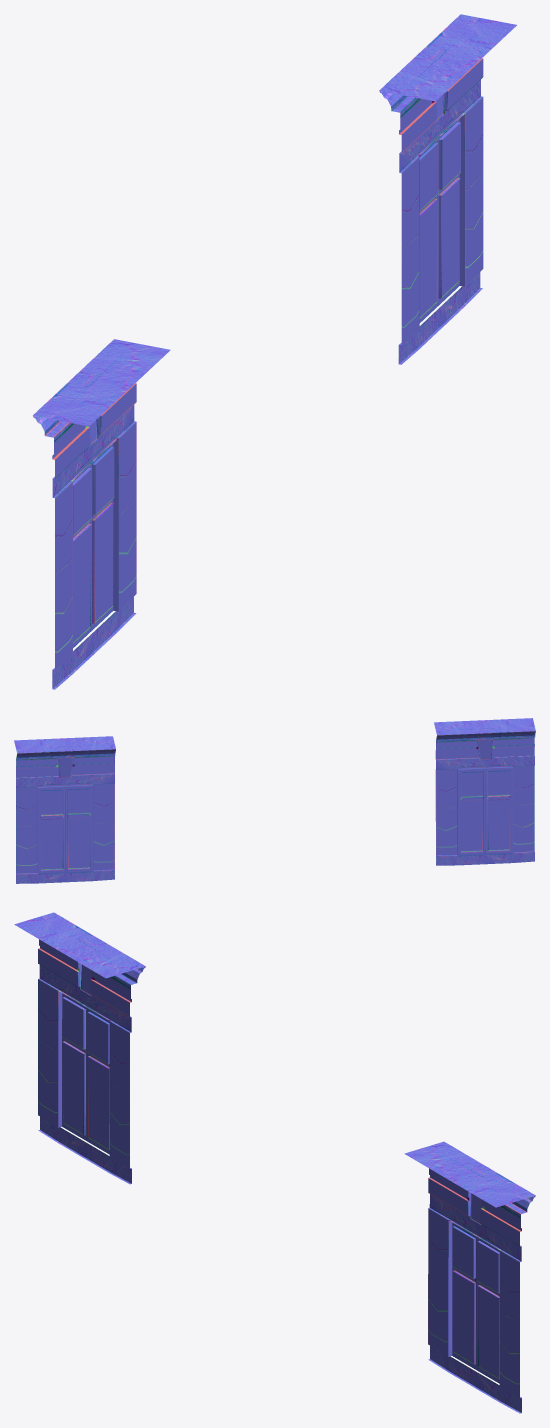
The picture shows the model from 3 angles, top to bottom: view 1: azimuth 30°, elevation 25°; view 2: azimuth 150°, elevation 25°; view 3: azimuth 270°, elevation 25°; orthographic projection. The views are drawn at different scales.
Parts seen in each view (by area): view 1: _2Fwindow_low_002; view 2: _2Fwindow_low_002; view 3: _2Fwindow_low_002.
Part boxes in pixels (x1,y1,x2,y2): _2Fwindow_low_002: [32, 14, 516, 689]; _2Fwindow_low_002: [14, 718, 535, 883]; _2Fwindow_low_002: [14, 912, 535, 1413].
Size of the model in its own units: 906 by 307 by 678.
